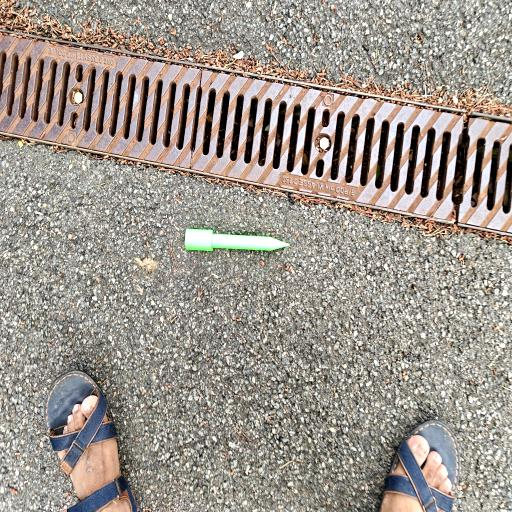Probe-Detection: (185, 229, 289, 251)
